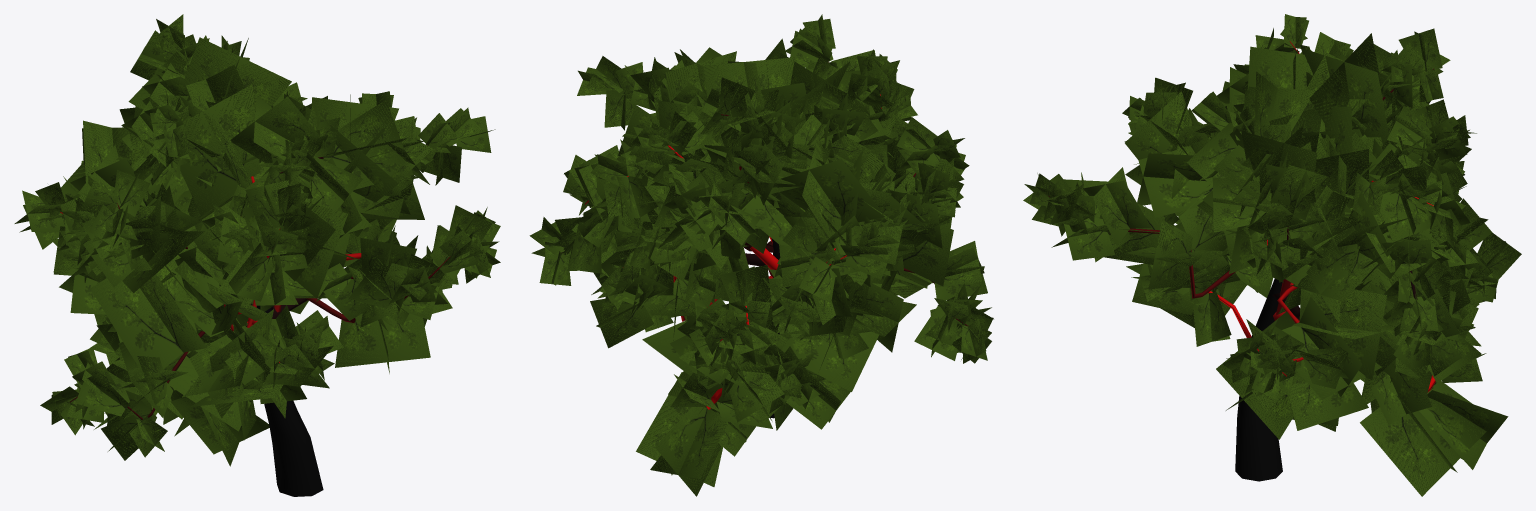
Rendered from oak4 lod0.FBX.
3 views of the same model, side by side, from view 1: azimuth 30°, elevation 25°; view 2: azimuth 150°, elevation 25°; view 3: azimuth 270°, elevation 25° (orthographic). The views are drawn at different scales.
Visible parts, largest first — view 1: oak 4; view 2: oak 4; view 3: oak 4.
Boxes of the visible parts, <box> form: oak 4: <box>14,14,500,496</box>; oak 4: <box>529,14,993,496</box>; oak 4: <box>1023,14,1521,496</box>.
Bounding box in the file's own units: 92959 × 85289 × 88737.
